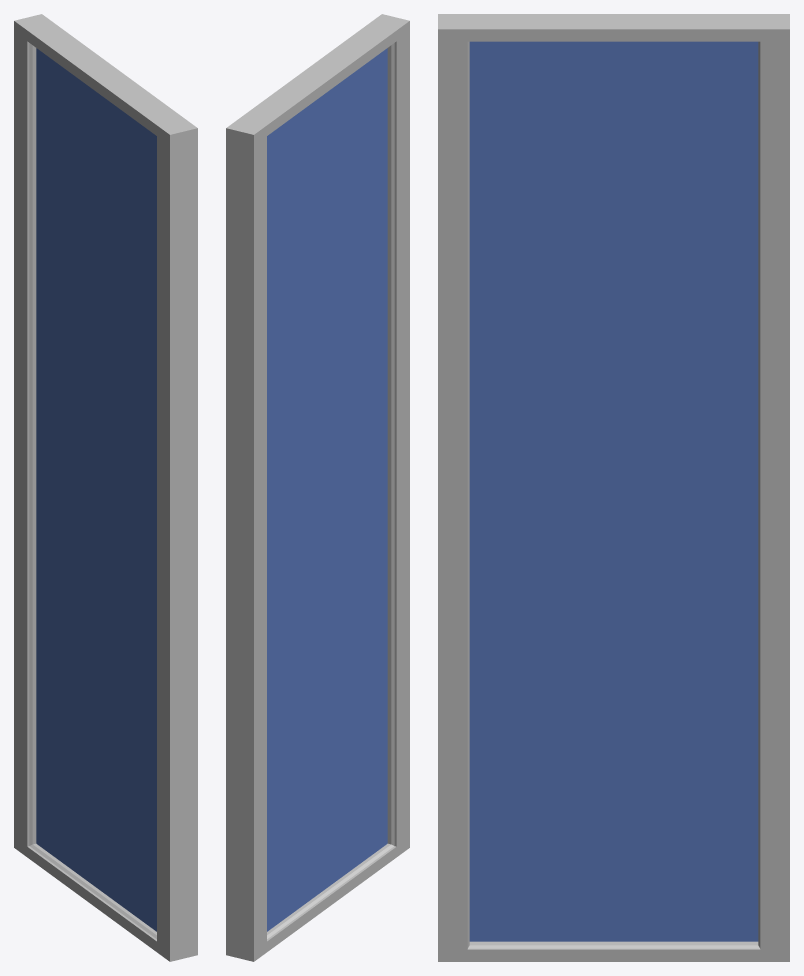
File: win24_01.fbx
3 views of the same model, side by side, from view 1: azimuth 30°, elevation 25°; view 2: azimuth 150°, elevation 25°; view 3: azimuth 270°, elevation 25° (orthographic). The views are drawn at different scales.
Parts seen in each view (by area): view 1: Cylinder_2_2_1; view 2: Cylinder_2_2_1; view 3: Cylinder_2_2_1.
Boxes of the visible parts, bbox=[...] form: Cylinder_2_2_1: bbox=[14, 14, 197, 961]; Cylinder_2_2_1: bbox=[226, 14, 409, 961]; Cylinder_2_2_1: bbox=[438, 14, 789, 961].
Bounding box in the file's own units: 4.58 × 130 × 44.4.
